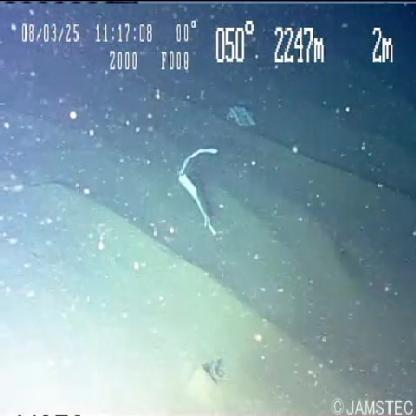Rác: (178, 149, 222, 231)
